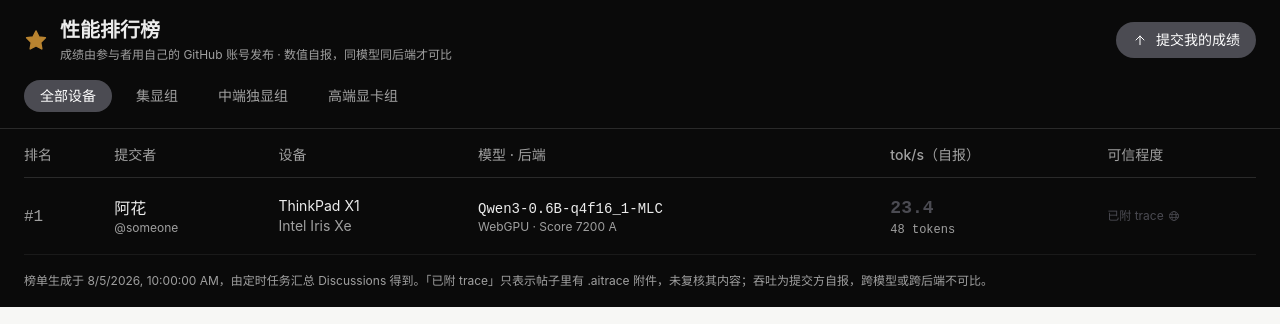
Test: LeaderboardPage › 档位筛选为空时区分「这个档位没有」与「榜单没生成」
Expected: the table is shown, [24,145,1256,255]
What coordinates should you click on to do the following:
click the button "高端显卡组"
I would click on:
 (363, 96)
Its box is [312,80,414,112].
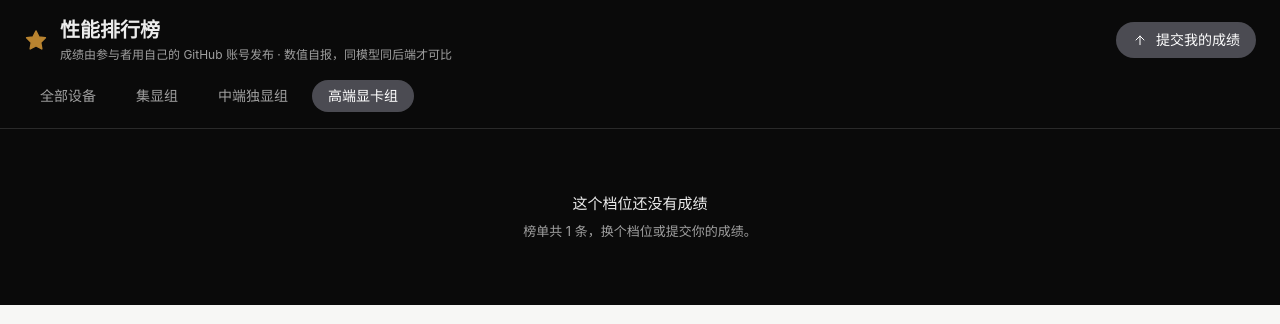
Now the text "这个档位还没有成绩" is shown, box [572,194,708,213]
Now the text "榜单共 1 条，换个档位或提交你的成绩。" is shown, box [523,222,757,238]
